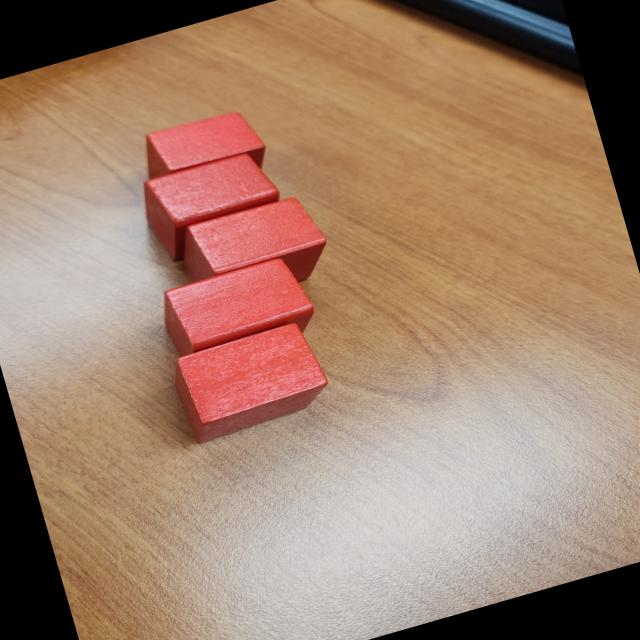red: (166, 318, 332, 447), (172, 188, 337, 312), (154, 252, 322, 372), (134, 144, 290, 266), (133, 102, 274, 201)
